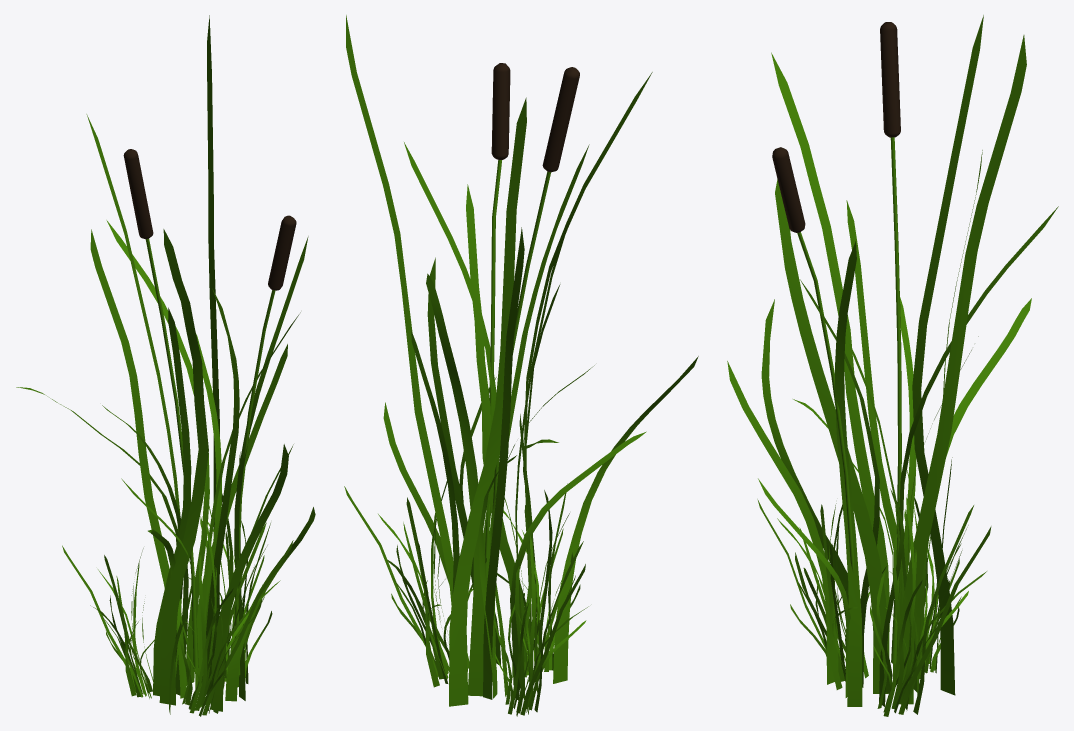
The model's file is orobinec.glb.
The picture shows the model from 3 angles, left to right: view 1: azimuth 30°, elevation 25°; view 2: azimuth 150°, elevation 25°; view 3: azimuth 270°, elevation 25°; orthographic projection. The views are drawn at different scales.
Parts seen in each view (by area): view 1: orobinec; view 2: orobinec; view 3: orobinec.
Boxes of the visible parts, x1,y1,x2,y2 form: orobinec: (16, 15, 315, 716); orobinec: (344, 15, 698, 716); orobinec: (727, 15, 1058, 716).
Size of the model in its own units: 0.6121 by 1.61 by 0.6953.
1 material, 1 textured.
